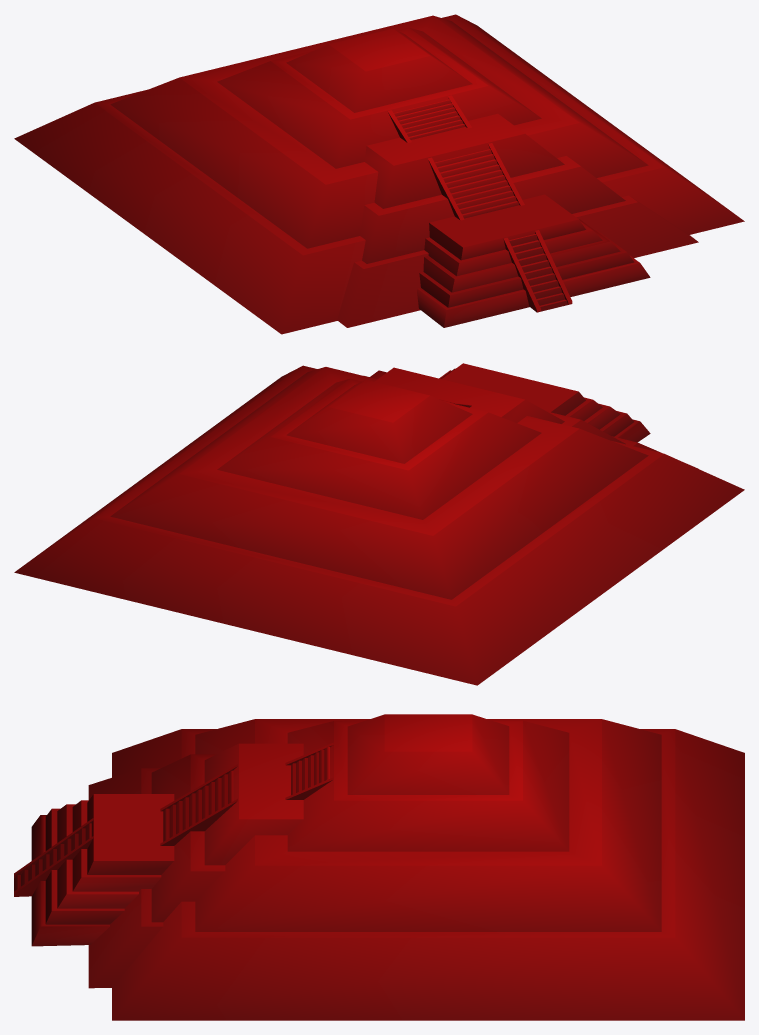
The model's file is buildings-historical-steppedpyramidhuge_v1.fbx.
3 renders of one model, top to bottom at view 1: azimuth 30°, elevation 25°; view 2: azimuth 150°, elevation 25°; view 3: azimuth 270°, elevation 25°, orthographic. The views are drawn at different scales.
Visible parts, largest first — view 1: SteppedPyramidHuge.001; view 2: SteppedPyramidHuge.001; view 3: SteppedPyramidHuge.001.
Part boxes in pixels (x1=…): SteppedPyramidHuge.001: x1=14, y1=14, x2=744, y2=334; SteppedPyramidHuge.001: x1=14, y1=363, x2=744, y2=685; SteppedPyramidHuge.001: x1=14, y1=714, x2=744, y2=1020.
Bounding box in the file's own units: 74.35 × 19.92 × 85.86.
